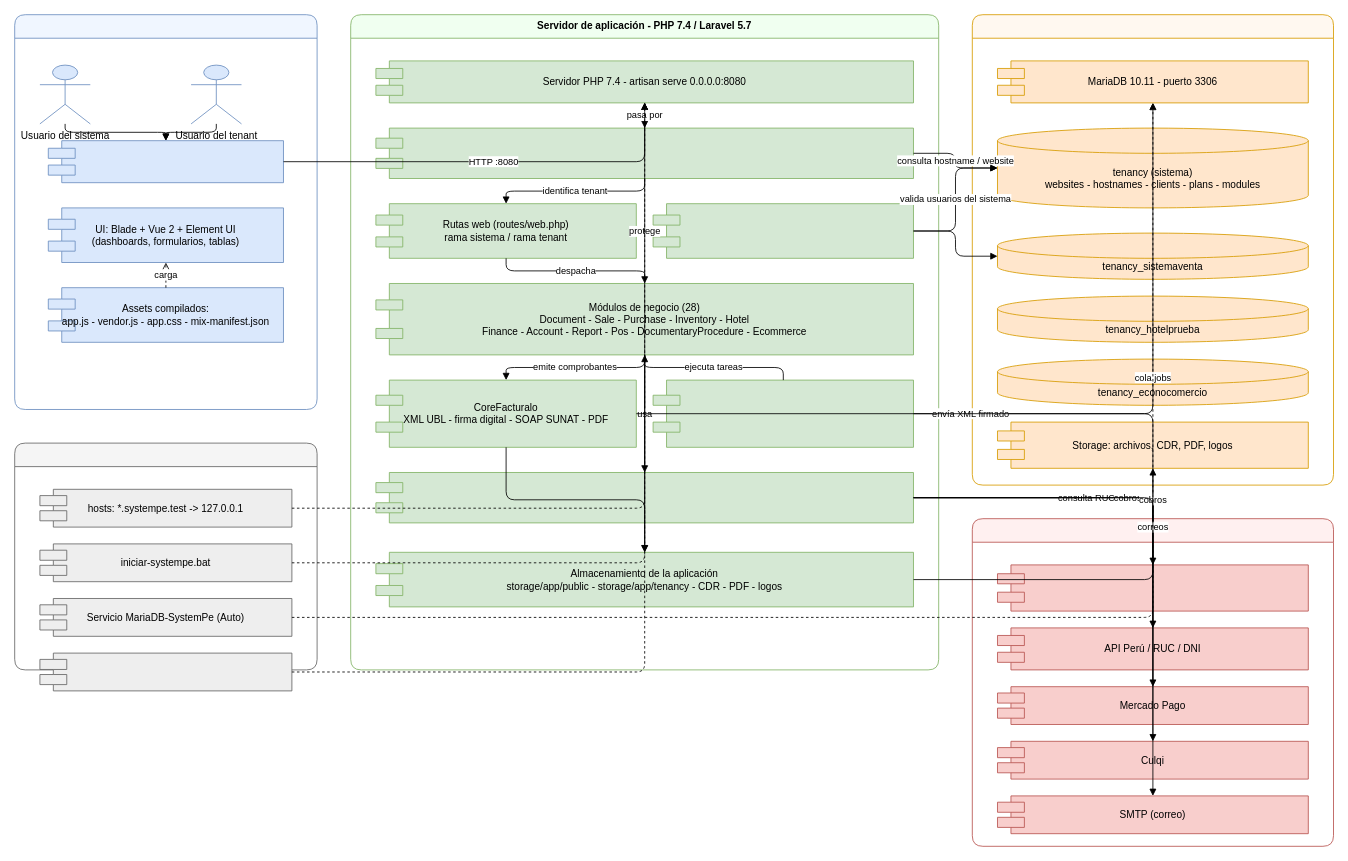
The diagram is 1348 pixels wide and 861 high, and some of its shapes have lost their labels. Here are the shapes that lost their labels. From the top down, the box of each, then its label:
(47, 140, 284, 183): Navegador web HTTP :8080
(375, 127, 914, 178): Middleware hyn/multi-tenant Hostname -> Website -> conexión tenant
(14, 14, 317, 410): Cliente (navegador)
(652, 203, 914, 258): Autenticación guard admin (System\User) / guard web (Tenant\User)
(971, 14, 1334, 485): Datos
(652, 379, 914, 447): Scheduler (cada minuto) + Queue worker tenancy:run / status:server / jobs
(375, 472, 914, 523): Servicios de aplicación: reportes, backups, import/export, pagos
(14, 442, 317, 670): Infraestructura local (Windows)
(997, 564, 1308, 611): SUNAT - SOAP (facturación electrónica)
(39, 652, 292, 691): PHP 7.4 + Composer 2 + Node 24
(971, 518, 1334, 846): Servicios externos
